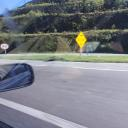speed_limit_40: (0, 42, 10, 50)
